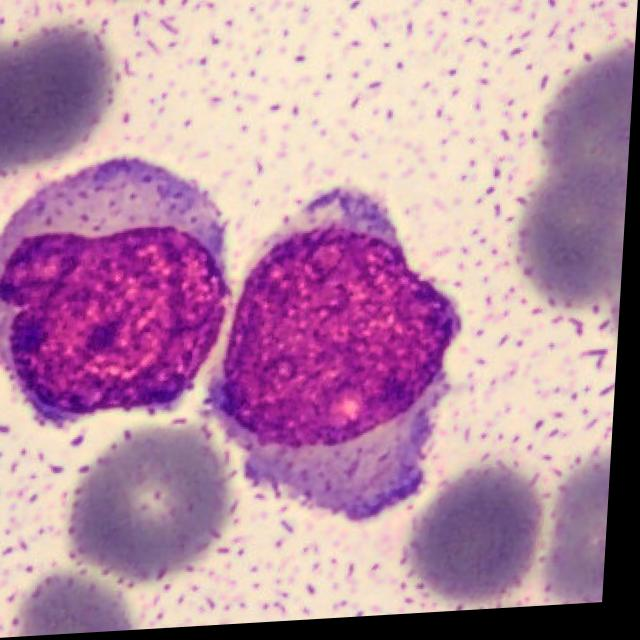Mieloblasto: (221, 191, 465, 527), (0, 160, 235, 425)
